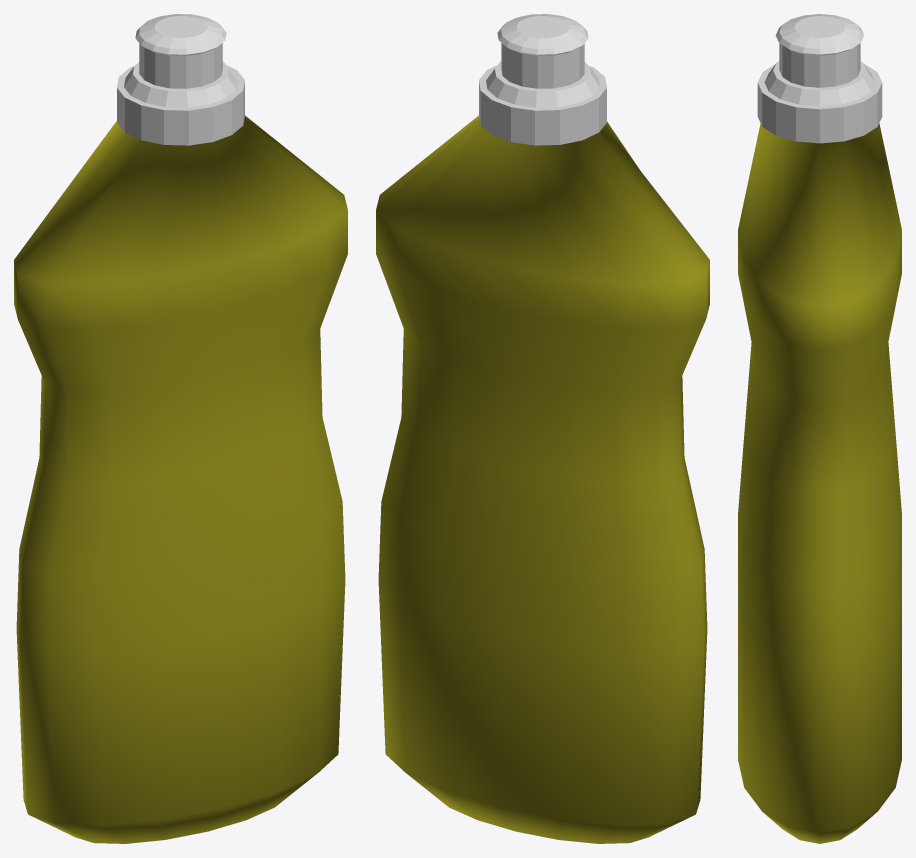
File: Cleaning_Bottle_5.fbx
3 views of the same model, side by side, from view 1: azimuth 30°, elevation 25°; view 2: azimuth 150°, elevation 25°; view 3: azimuth 270°, elevation 25° (orthographic). The views are drawn at different scales.
Parts seen in each view (by area): view 1: Cylinder.036; view 2: Cylinder.036; view 3: Cylinder.036.
Boxes of the visible parts, x1,y1,x2,y2 form: Cylinder.036: [14, 14, 347, 843]; Cylinder.036: [376, 14, 709, 843]; Cylinder.036: [738, 14, 901, 843].
Bounding box in the file's own units: 12.2 × 28.03 × 5.43.
